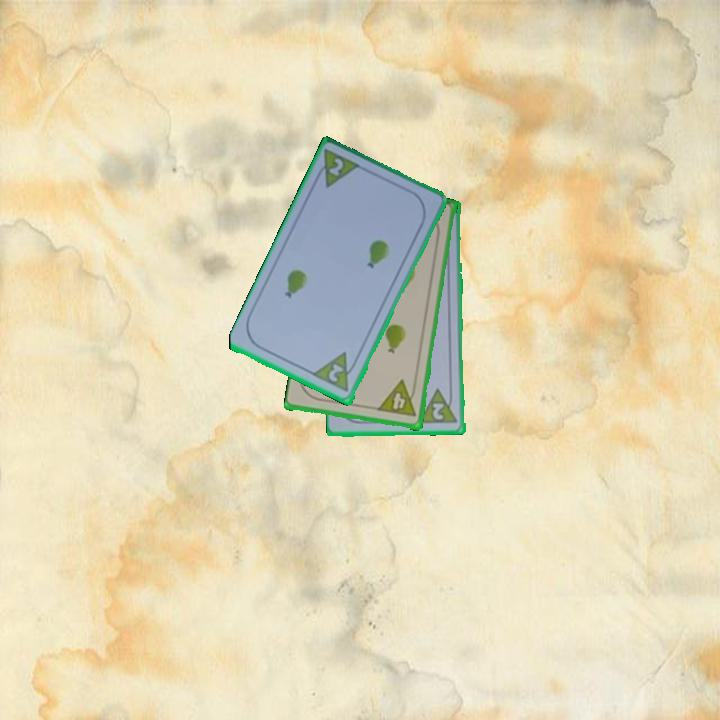2p: (311, 349, 361, 396), (417, 385, 461, 427), (325, 154, 346, 180)
4p: (375, 378, 420, 420)
